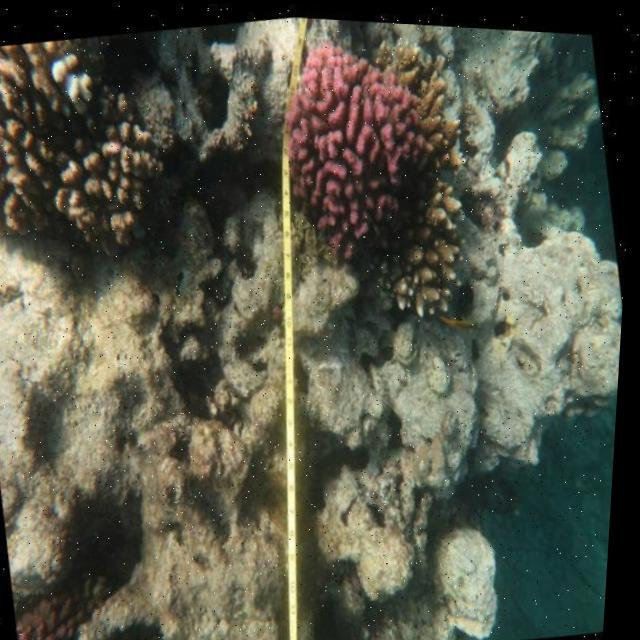Bleached Coral: (42, 47, 102, 112)
Healthy Coral: (270, 23, 480, 318), (37, 115, 167, 263), (0, 43, 53, 239), (18, 586, 167, 640)
